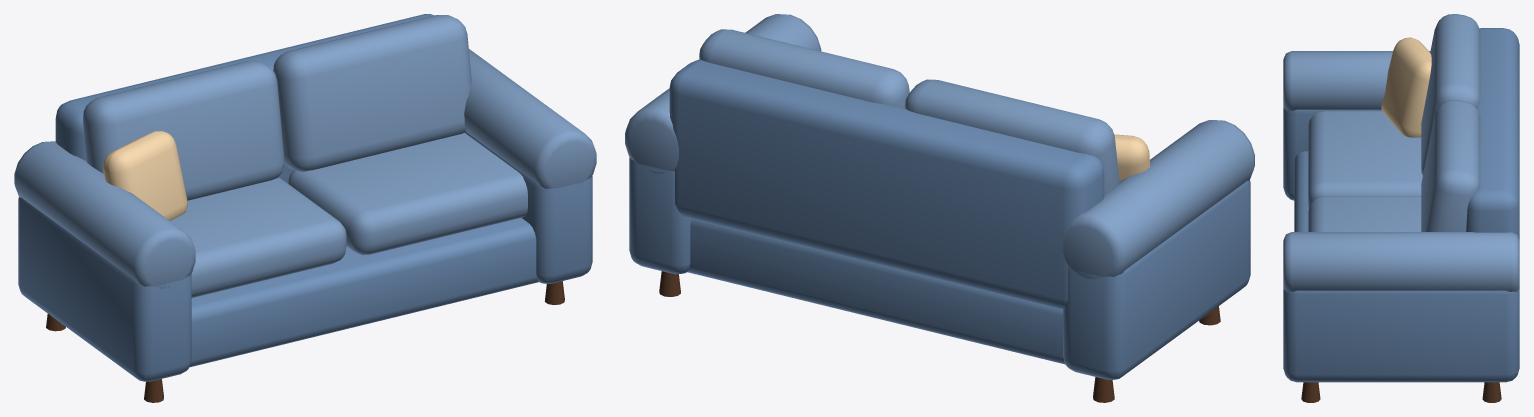
The model's file is sofa.glb.
The picture shows the model from 3 angles, left to right: view 1: azimuth 30°, elevation 25°; view 2: azimuth 150°, elevation 25°; view 3: azimuth 270°, elevation 25°; orthographic projection. The views are drawn at different scales.
Parts seen in each view (by area): view 1: sofa; view 2: sofa; view 3: sofa.
Part boxes in pixels (x1,y1,x2,y2): sofa: (14,14,596,402); sofa: (625,14,1254,402); sofa: (1283,14,1519,402).
Bounding box in the file's own units: 1.8 × 0.8694 × 0.86.
